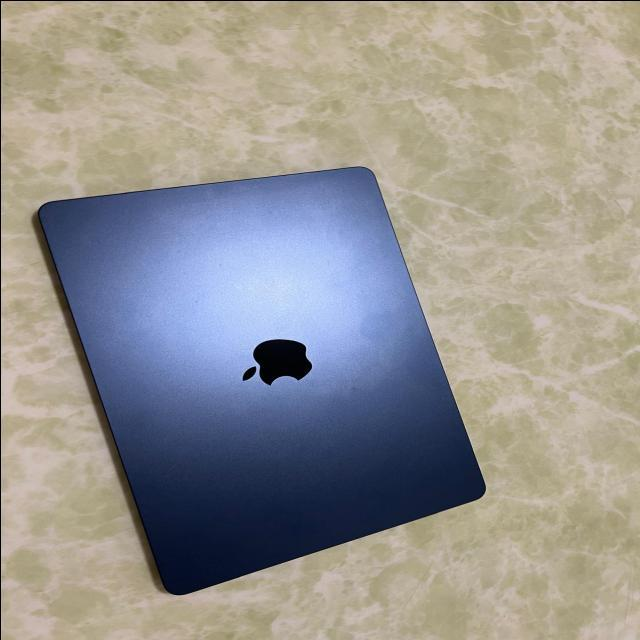laptop: (36, 164, 487, 595)
